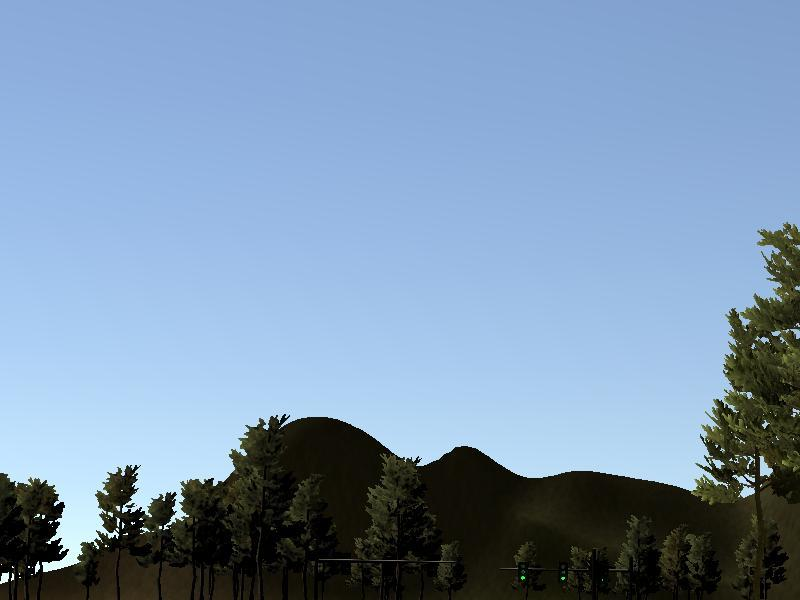Green: (517, 562, 528, 585), (558, 562, 567, 585)
